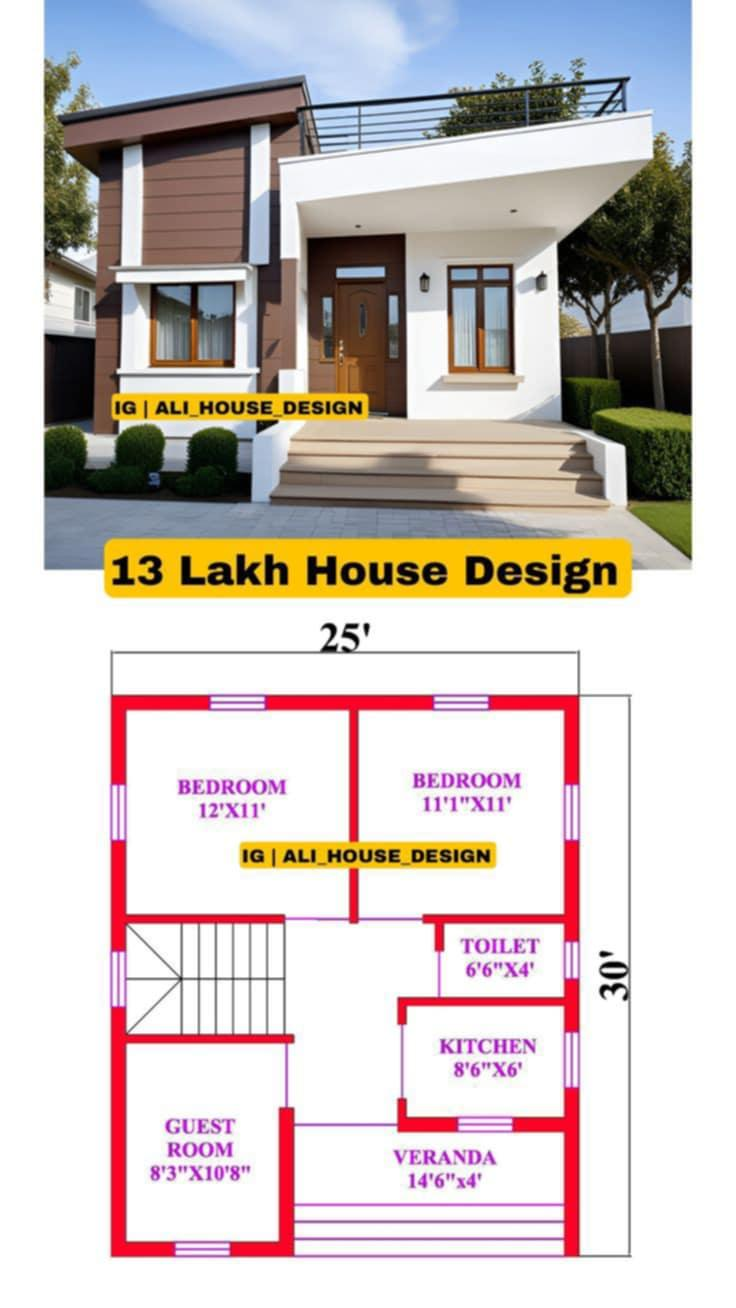Blueprint: (101, 681, 594, 1270)
